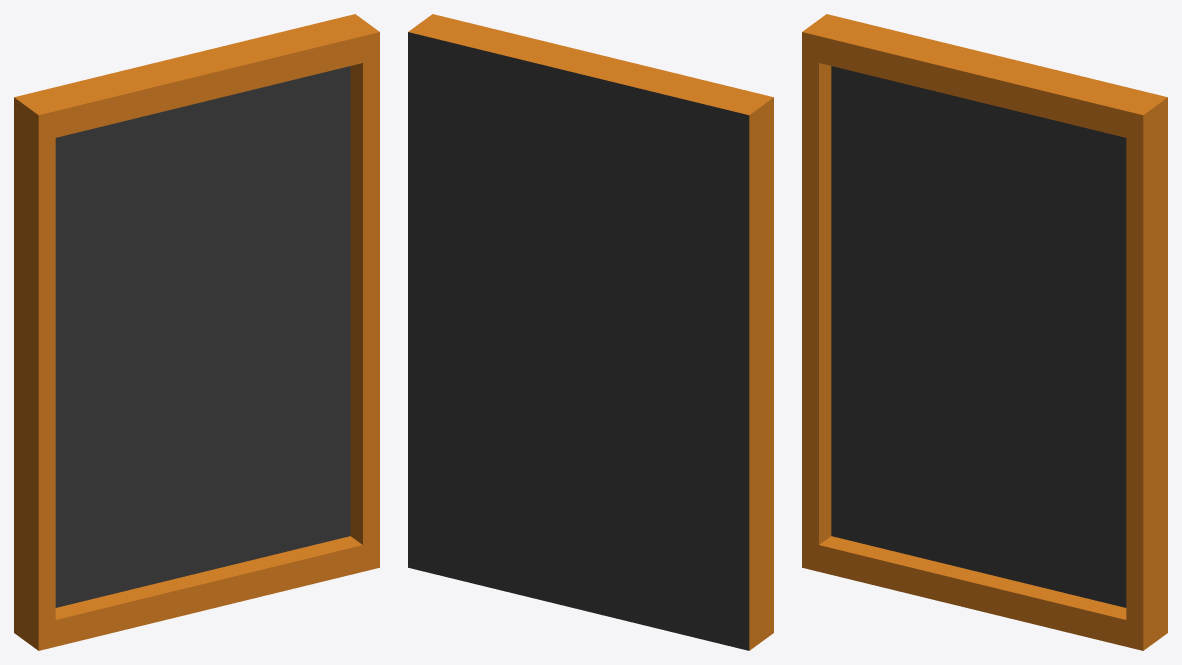
Rendered from Picture Frame.fbx.
The picture shows the model from 3 angles, left to right: view 1: azimuth 30°, elevation 25°; view 2: azimuth 150°, elevation 25°; view 3: azimuth 330°, elevation 25°; orthographic projection.
Parts seen in each view (by area): view 1: Picture Frame; view 2: Picture Frame; view 3: Picture Frame.
Boxes of the visible parts, box(x1,y1,x2,y2) form: Picture Frame: box(14, 14, 379, 650); Picture Frame: box(408, 14, 773, 650); Picture Frame: box(802, 14, 1167, 650).
Bounding box in the file's own units: 1600 × 2400 × 200.
